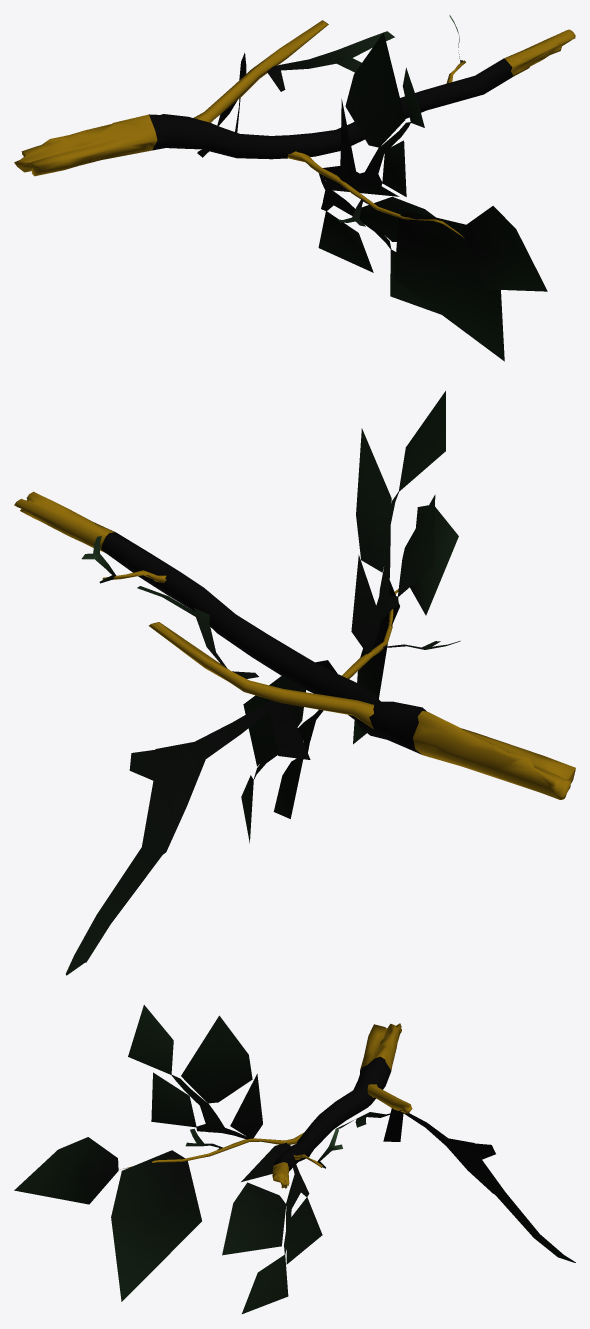
Rendered from beech_dry_bough_leaves_01.fbx.
3 views of the same model, one above another, from view 1: azimuth 30°, elevation 25°; view 2: azimuth 150°, elevation 25°; view 3: azimuth 270°, elevation 25° (orthographic). The views are drawn at different scales.
Parts seen in each view (by area): view 1: beech_dry_bough_leaves_01; view 2: beech_dry_bough_leaves_01; view 3: beech_dry_bough_leaves_01.
Part boxes in pixels (box(x1,y1,x2,y2)): beech_dry_bough_leaves_01: box(14, 15, 575, 361); beech_dry_bough_leaves_01: box(14, 391, 575, 975); beech_dry_bough_leaves_01: box(14, 1005, 575, 1313).
Size of the model in its own units: 7.83 by 4.77 by 9.01.
